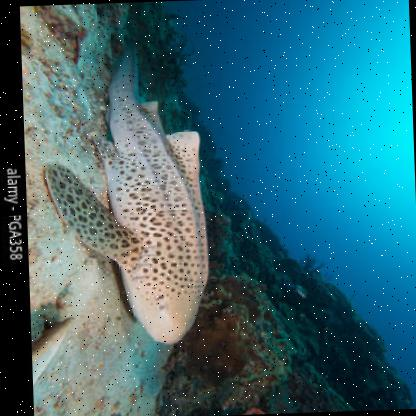zebra_shark: (33, 38, 243, 359)
